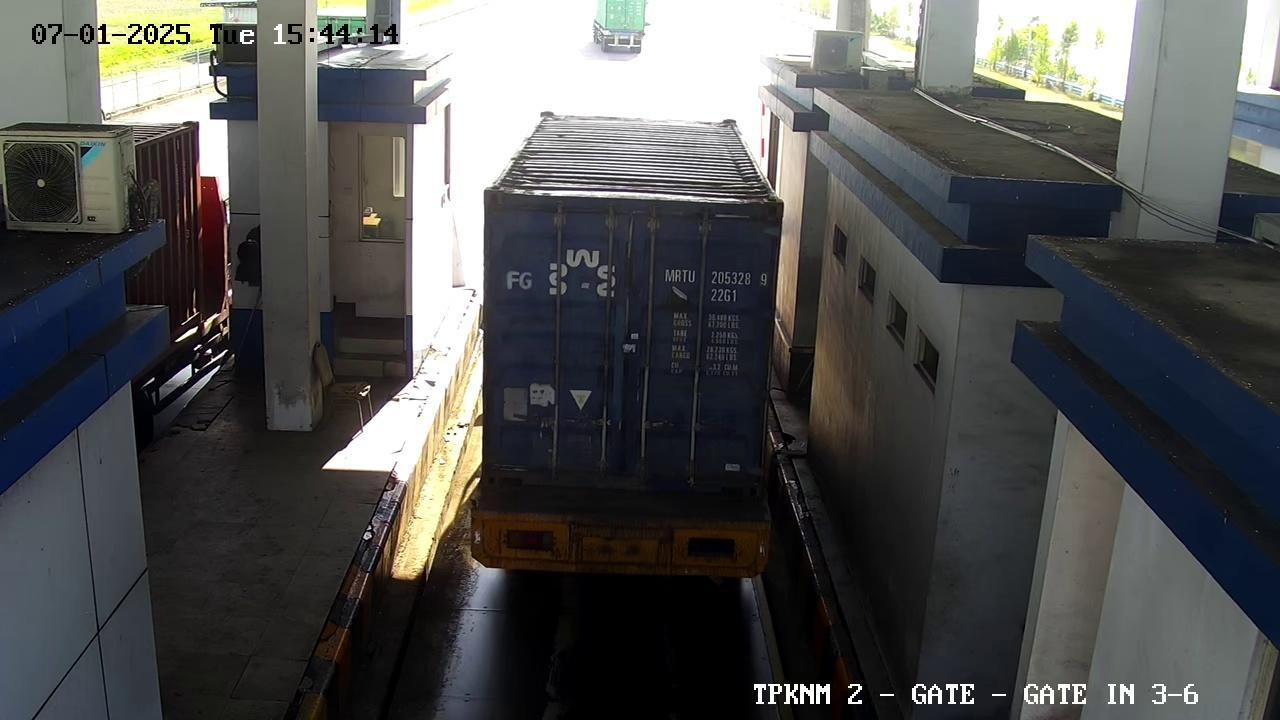Container_ID: (659, 260, 777, 288)
